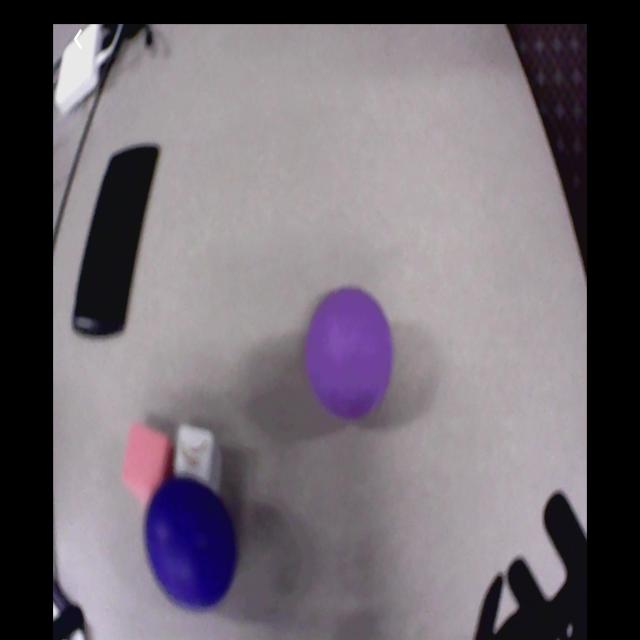ball: (148, 476, 236, 609), (306, 288, 393, 422)
